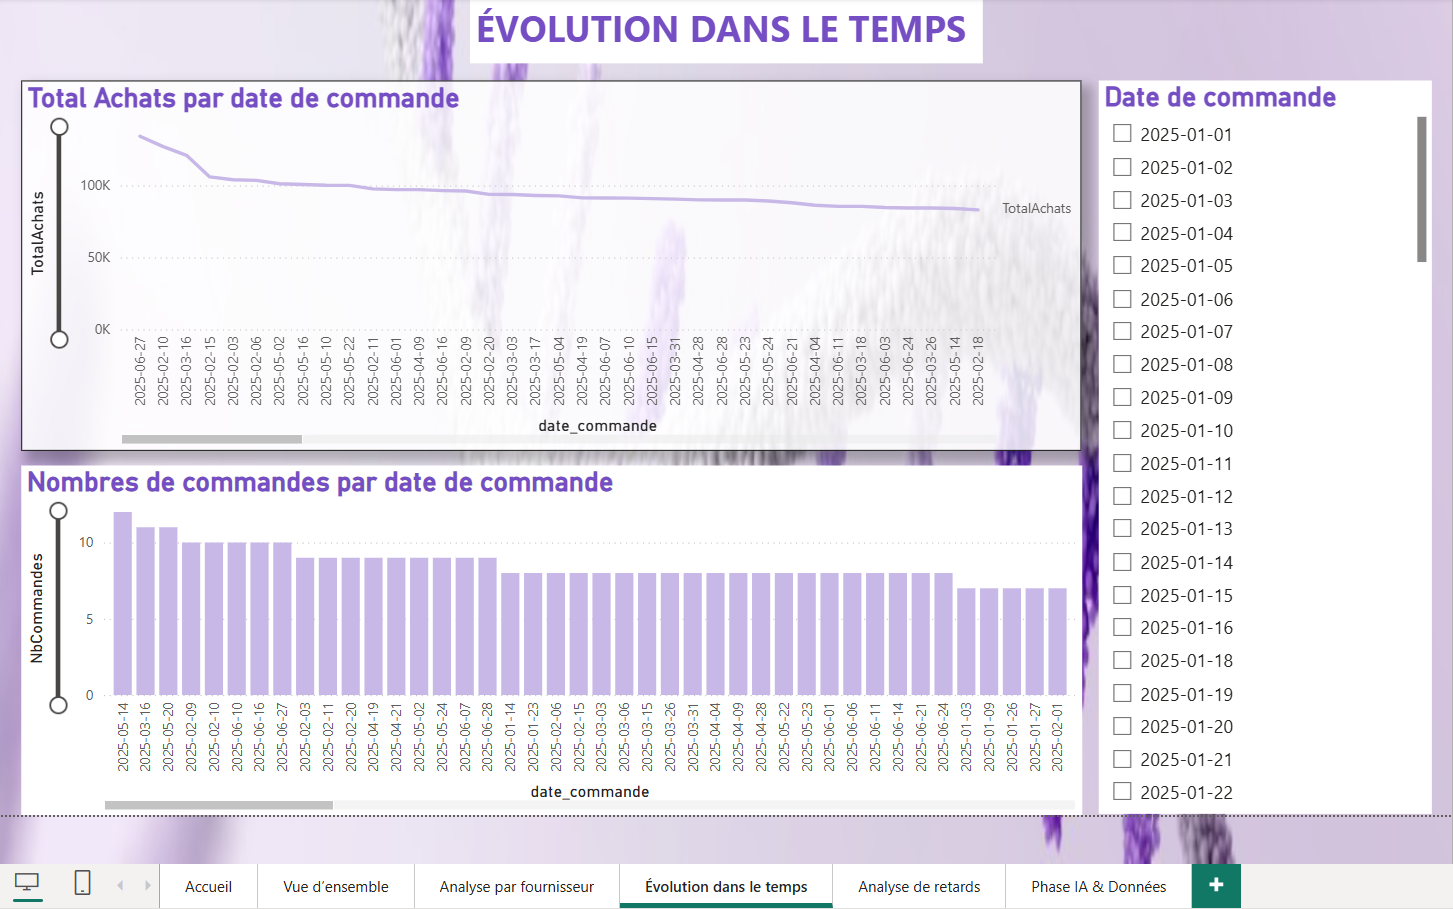

This screenshot's page, from the dashboard's own definition file:
{"tool":"powerbi","page":{"name":"Évolution dans le temps","canvas":[1280,720],"ordinal":3},"visuals":[{"type":"textbox","box":[414.3,0,451.7,57.3],"z":0},{"type":"lineChart","title":"Total Achats par date de commande","fields":{"Category":["procuresenseai_data_sanofi.date_commande"],"Y":["procuresenseai_data_sanofi.TotalAchats"]},"box":[18.3,73.2,934.1,326.6],"z":1000},{"type":"lineStackedColumnComboChart","title":"Nombres de commandes par date de commande","fields":{"Category":["procuresenseai_data_sanofi.date_commande"],"Y":["procuresenseai_data_sanofi.NbCommandes"]},"box":[18.3,411.5,934.1,308.3],"z":2000},{"type":"slicer","title":"Date de commande","fields":{"Values":["procuresenseai_data_sanofi.date_commande"]},"box":[968,73.2,293.9,646.7],"z":3000}]}

Visuals, with their boxes on the page's 1280x720 design canvas (x1, y1, x2, y2). These are canvas units, not pixel positions in the 1453x909 screenshot, which may show the page scaled, cropped or inside an application window:
textbox: locate(414, 0, 866, 57)
"Total Achats par date de commande" lineChart: locate(18, 73, 952, 400)
"Nombres de commandes par date de commande" lineStackedColumnComboChart: locate(18, 412, 952, 720)
"Date de commande" slicer: locate(968, 73, 1262, 720)
